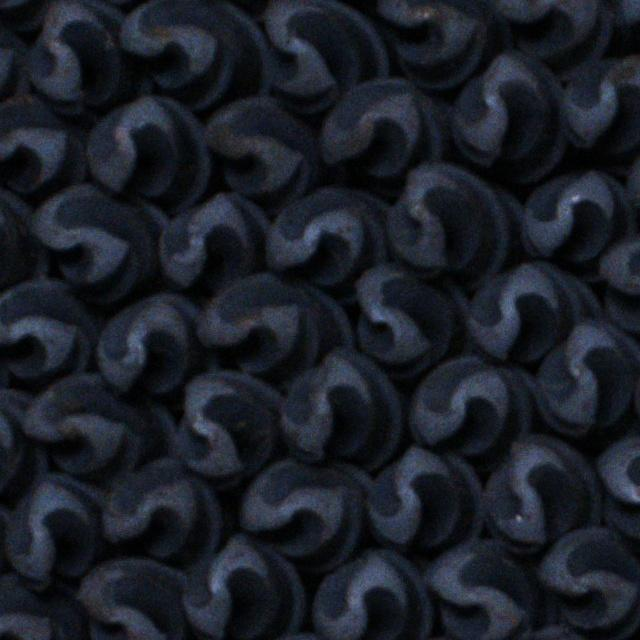tool_b: (198, 272, 350, 389), (120, 0, 274, 110), (25, 373, 173, 485), (33, 183, 172, 300), (389, 165, 521, 286), (240, 456, 374, 570), (266, 185, 392, 303), (84, 95, 211, 212), (451, 53, 567, 181), (281, 349, 402, 470), (409, 355, 534, 471), (482, 433, 598, 555), (423, 536, 558, 640), (264, 0, 388, 112), (204, 95, 321, 213), (31, 0, 152, 114), (353, 262, 471, 376), (366, 446, 486, 557), (174, 370, 287, 487), (181, 532, 303, 640), (465, 264, 601, 360), (535, 318, 640, 442), (321, 76, 450, 176), (522, 168, 634, 281), (377, 0, 513, 92), (98, 294, 216, 397), (102, 457, 220, 559), (536, 525, 640, 640), (5, 475, 107, 591), (310, 550, 433, 640), (158, 193, 268, 287), (0, 280, 100, 374), (561, 54, 640, 172), (0, 94, 89, 194), (74, 562, 188, 640), (498, 0, 614, 58), (0, 573, 86, 640)
